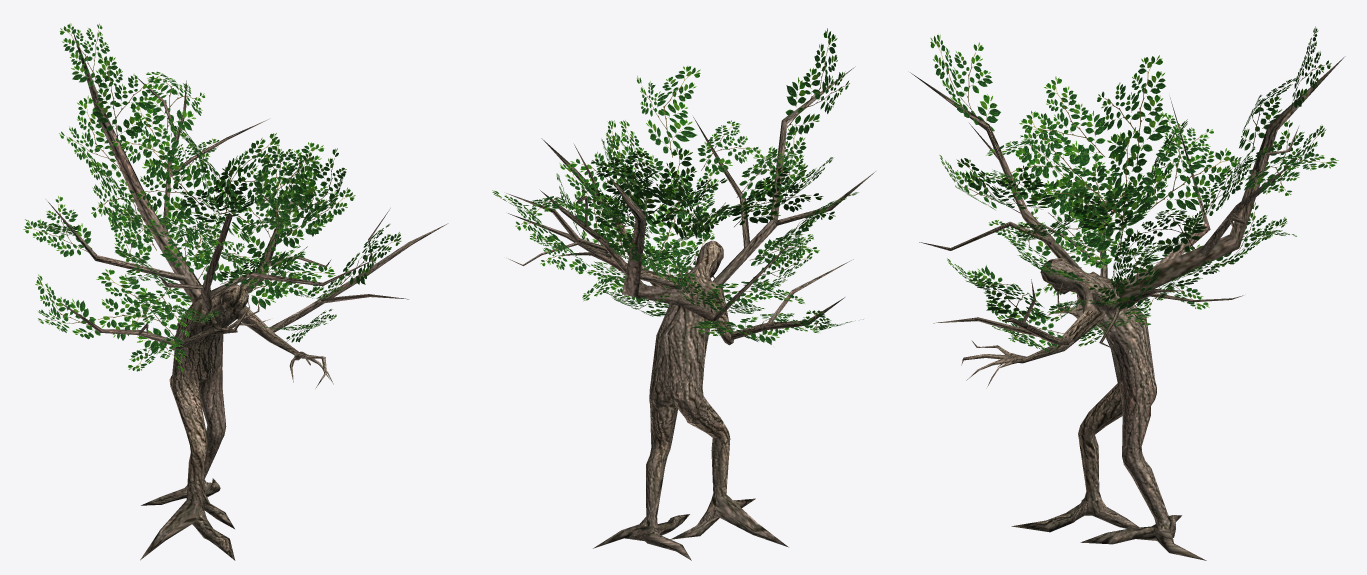
File: tree_hitogata4_3.fbx
3 renders of one model, left to right at view 1: azimuth 30°, elevation 25°; view 2: azimuth 150°, elevation 25°; view 3: azimuth 270°, elevation 25°, orthographic. The views are drawn at different scales.
Parts seen in each view (by area): view 1: tree_hitogata4_3; view 2: tree_hitogata4_3; view 3: tree_hitogata4_3.
Part boxes in pixels (box(x1,y1,x2,y2)): tree_hitogata4_3: box(23, 23, 448, 560); tree_hitogata4_3: box(492, 28, 875, 560); tree_hitogata4_3: box(910, 26, 1345, 560).
Bounding box in the file's own units: 16.14 × 19.38 × 15.5.
1 material, 1 textured.
